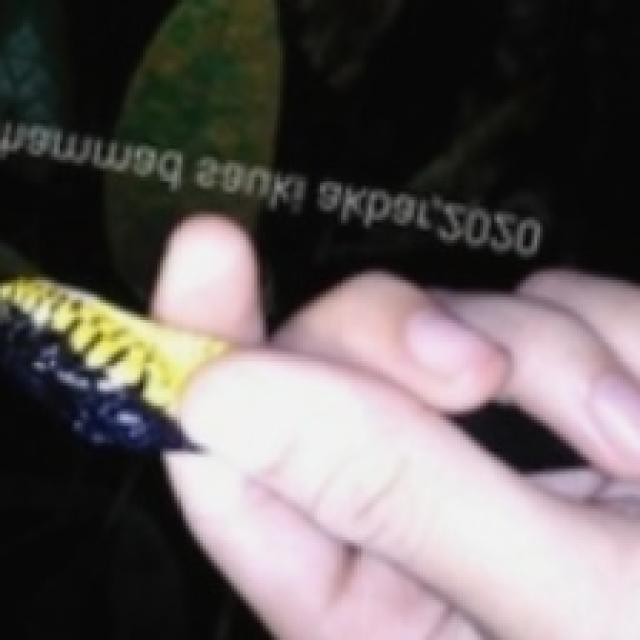mangrove cat snake: (0, 279, 230, 453)
